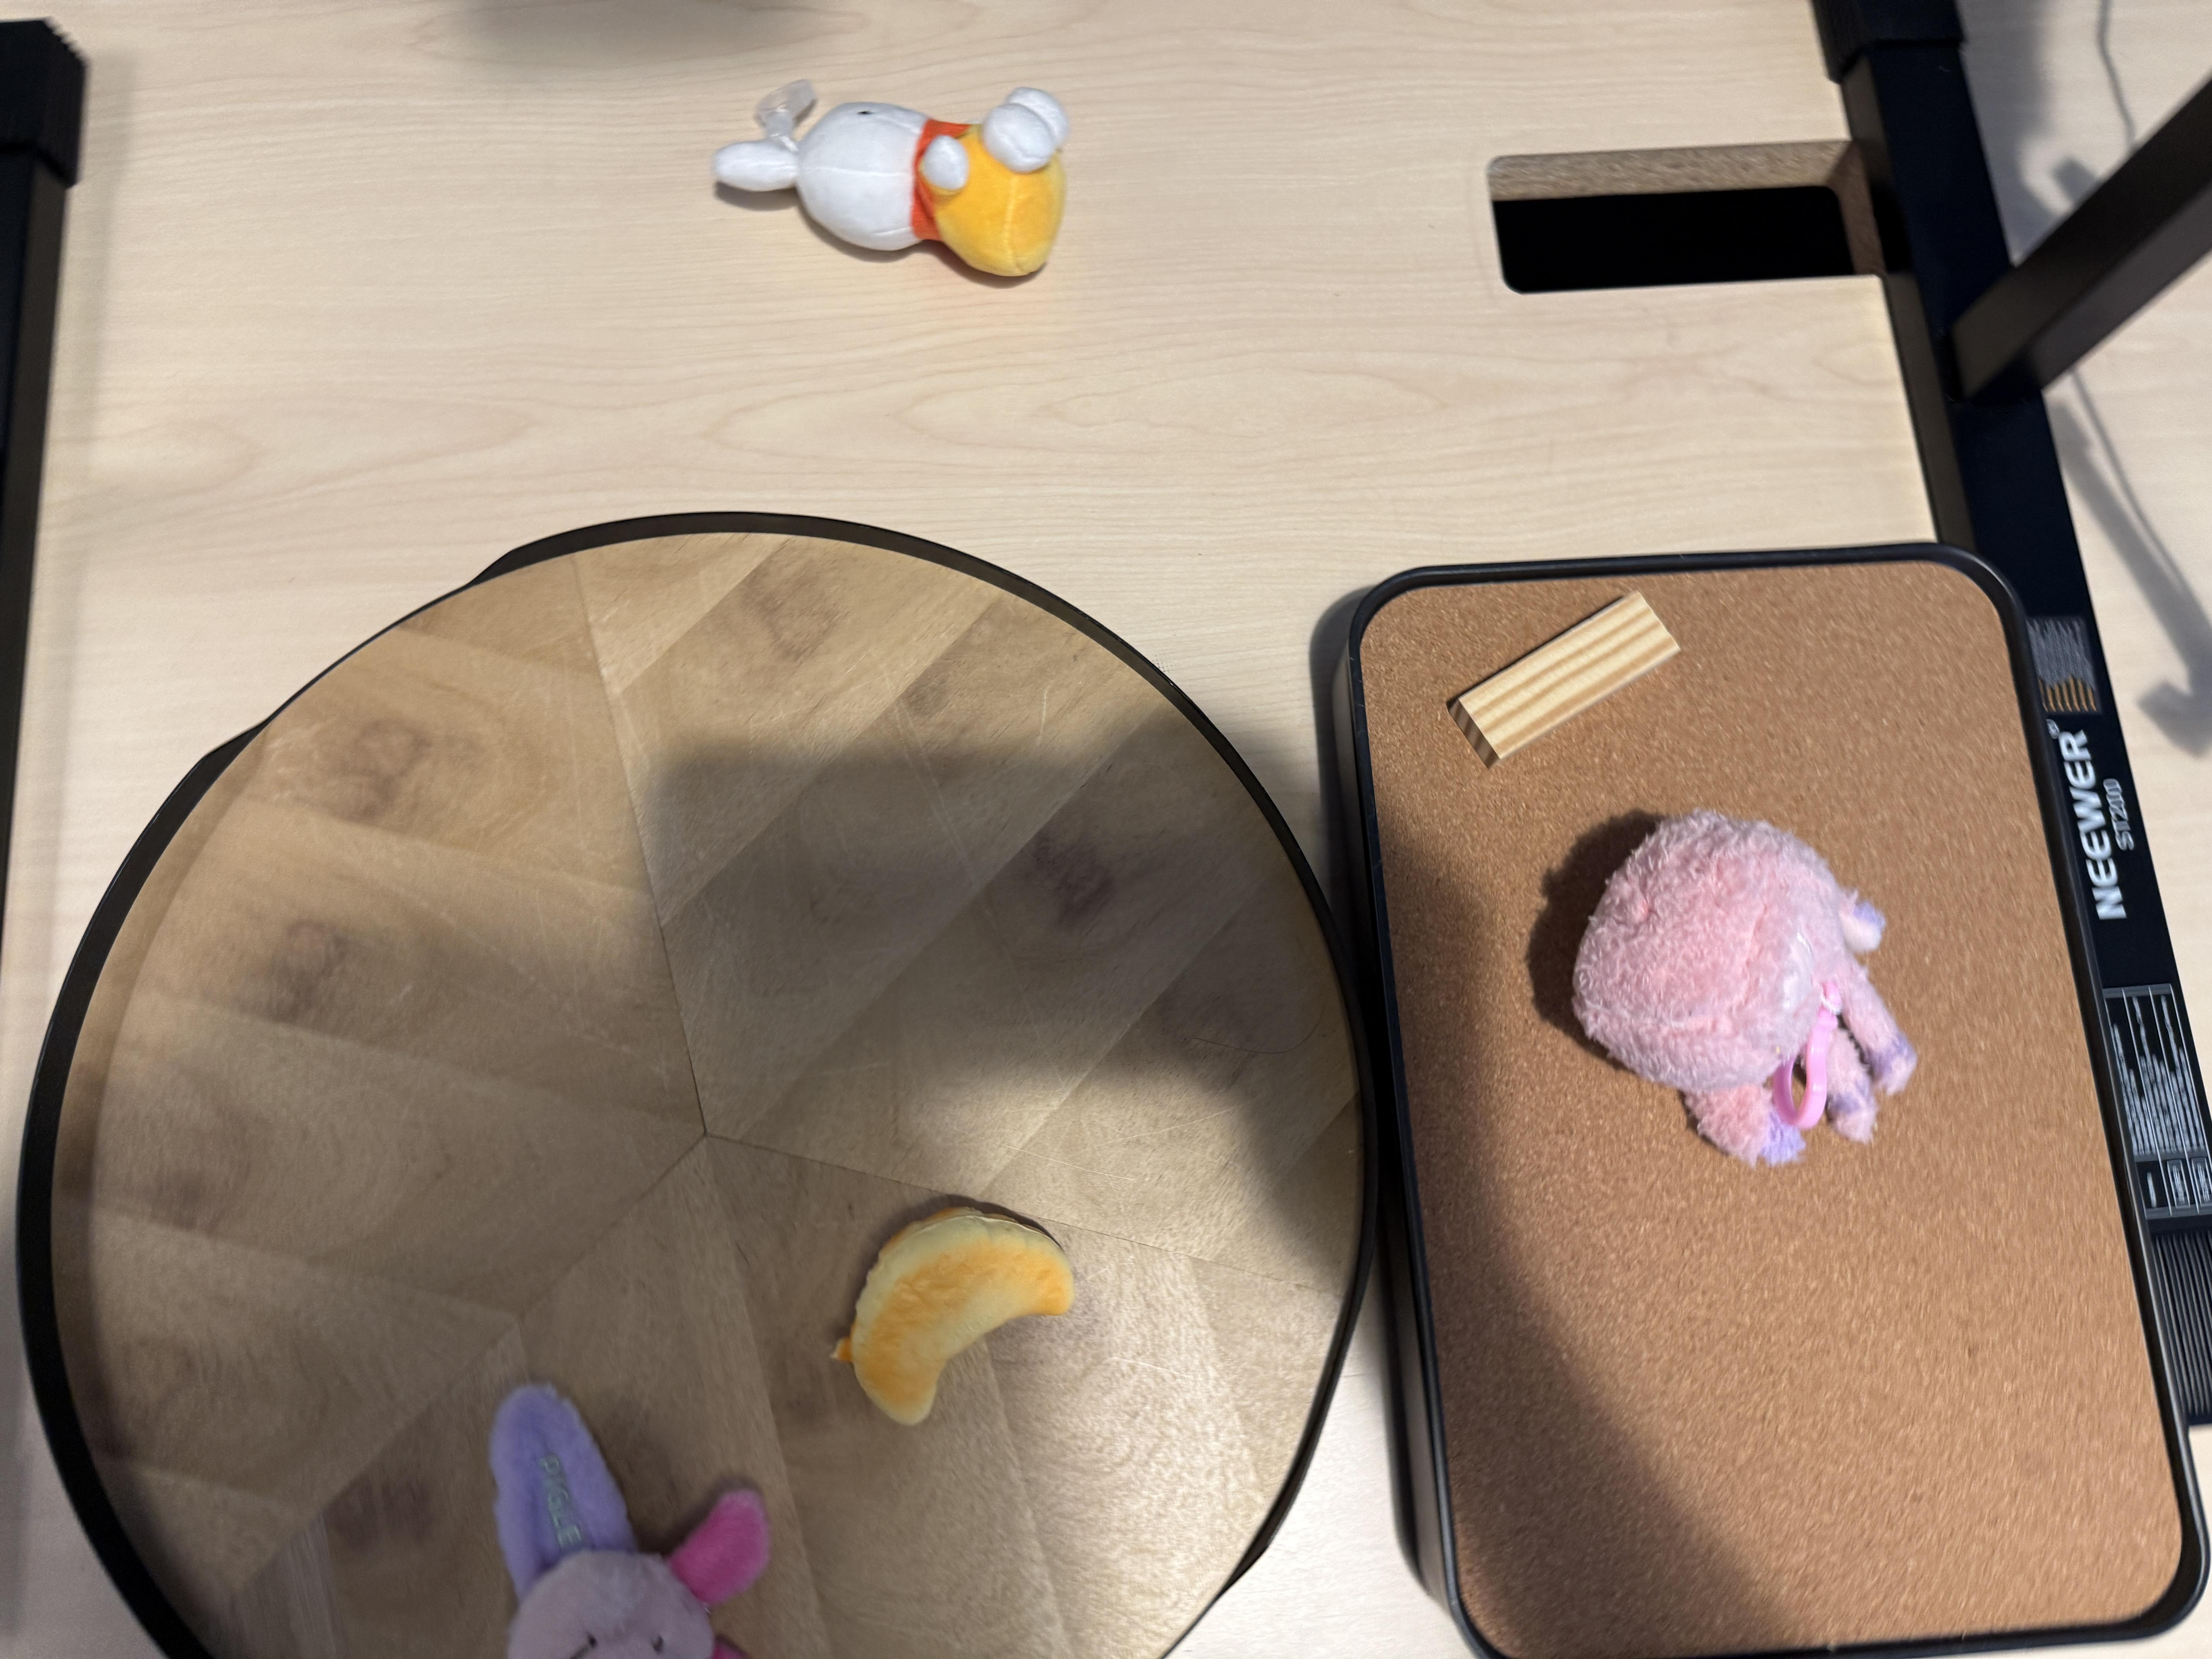block: (1451, 591, 1684, 758)
bread: (833, 1201, 1092, 1432)
doll: (1571, 807, 1918, 1166), (484, 1382, 777, 1659), (712, 73, 1068, 282)
